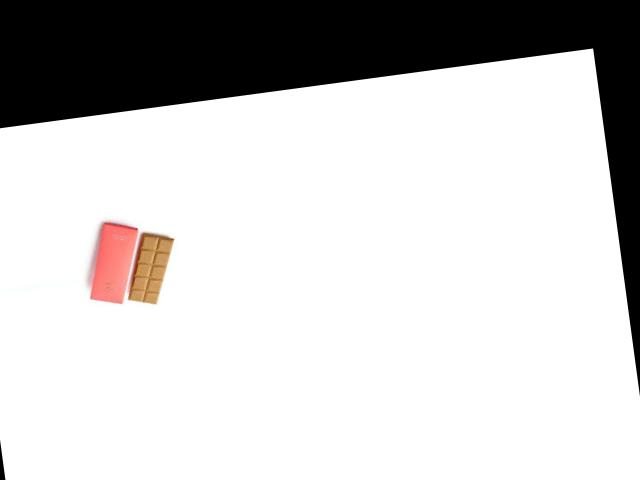chocolate: (115, 225, 182, 309)
